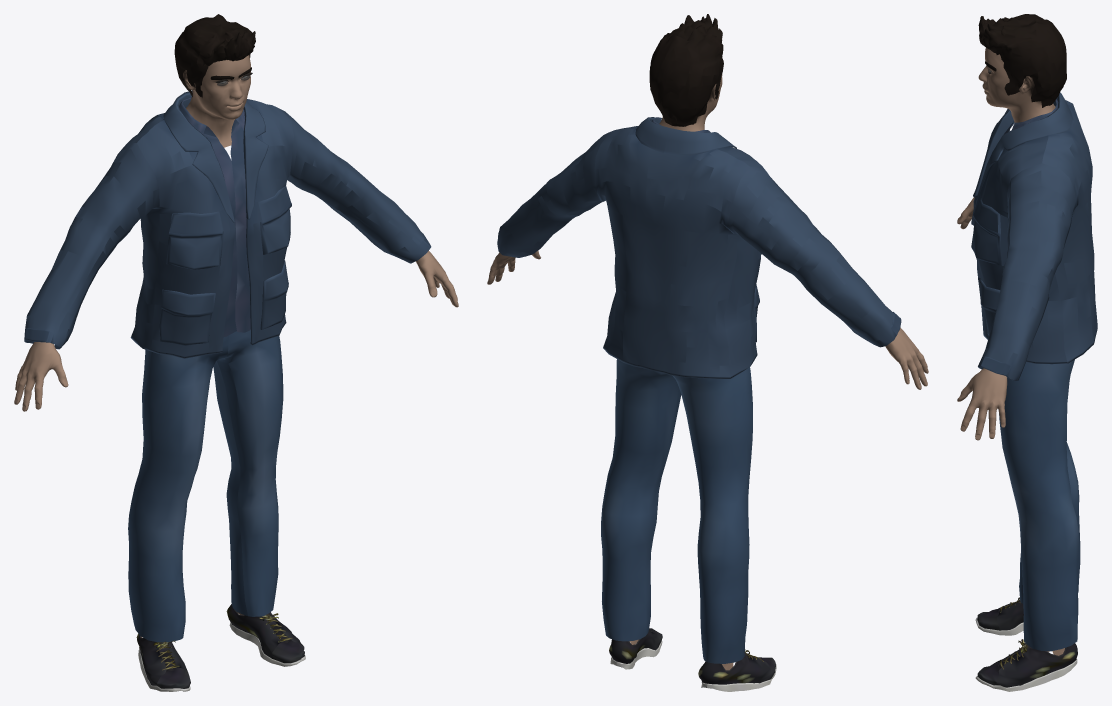
The model's file is 0006-People-cast-cooked-mh-18.glb.
The picture shows the model from 3 angles, left to right: view 1: azimuth 30°, elevation 25°; view 2: azimuth 150°, elevation 25°; view 3: azimuth 270°, elevation 25°; orthographic projection.
Parts seen in each view (by area): view 1: People: cast (cooked)/mh_18; view 2: People: cast (cooked)/mh_18; view 3: People: cast (cooked)/mh_18.
Boxes of the visible parts, box(x1,y1,x2,y2) form: People: cast (cooked)/mh_18: box(14, 14, 458, 691); People: cast (cooked)/mh_18: box(487, 14, 928, 691); People: cast (cooked)/mh_18: box(957, 14, 1097, 691).
Size of the model in its own units: 1.29 by 1.82 by 0.3626.
